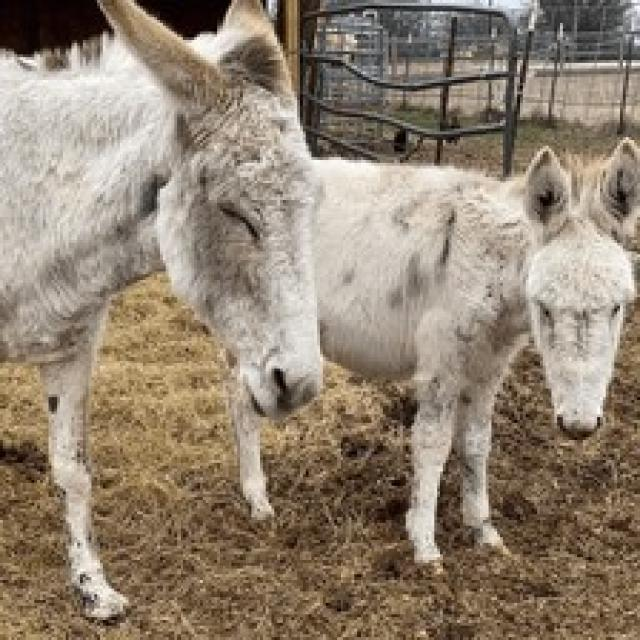Donkey: (0, 5, 322, 595), (235, 100, 640, 566)
